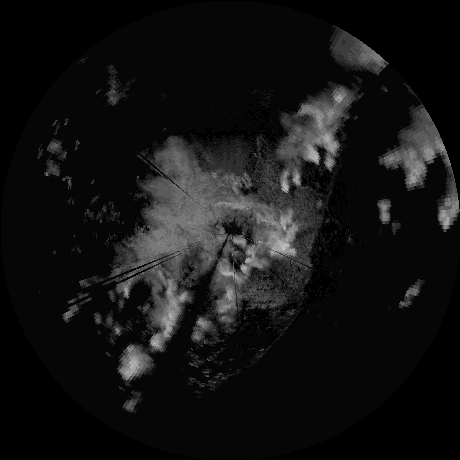frontgust: (224, 289, 307, 380)
